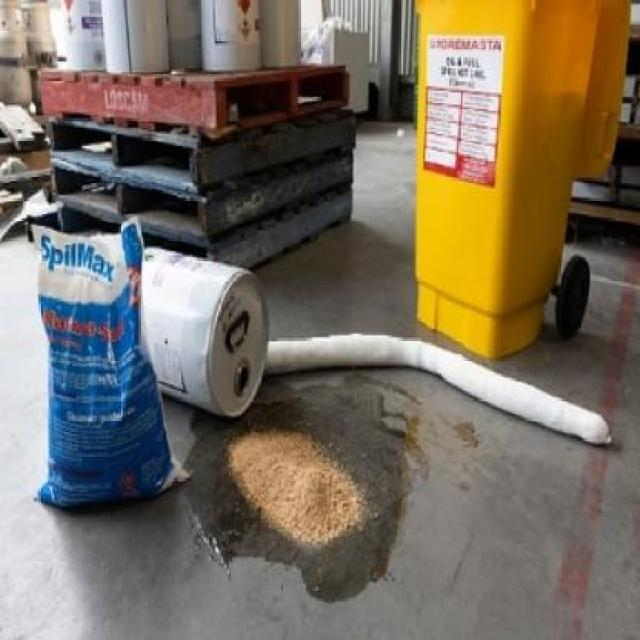spillage: (180, 378, 410, 603)
